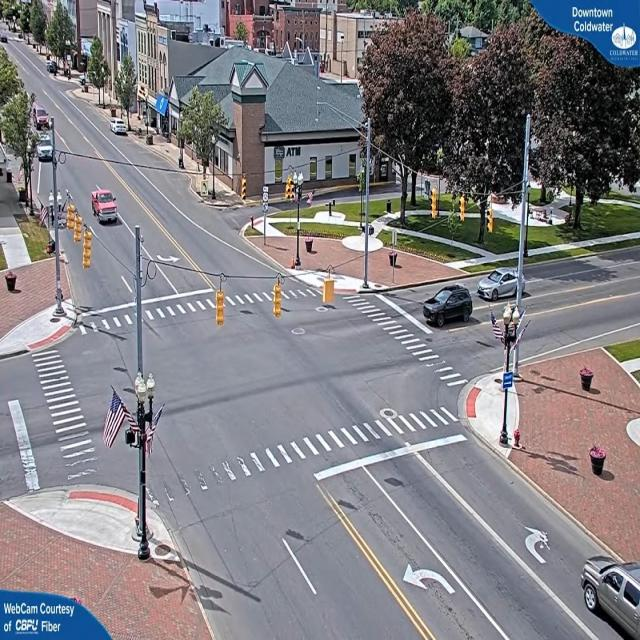car: (582, 554, 640, 640), (424, 287, 473, 328), (476, 270, 525, 302), (91, 190, 118, 223), (111, 120, 128, 136)
